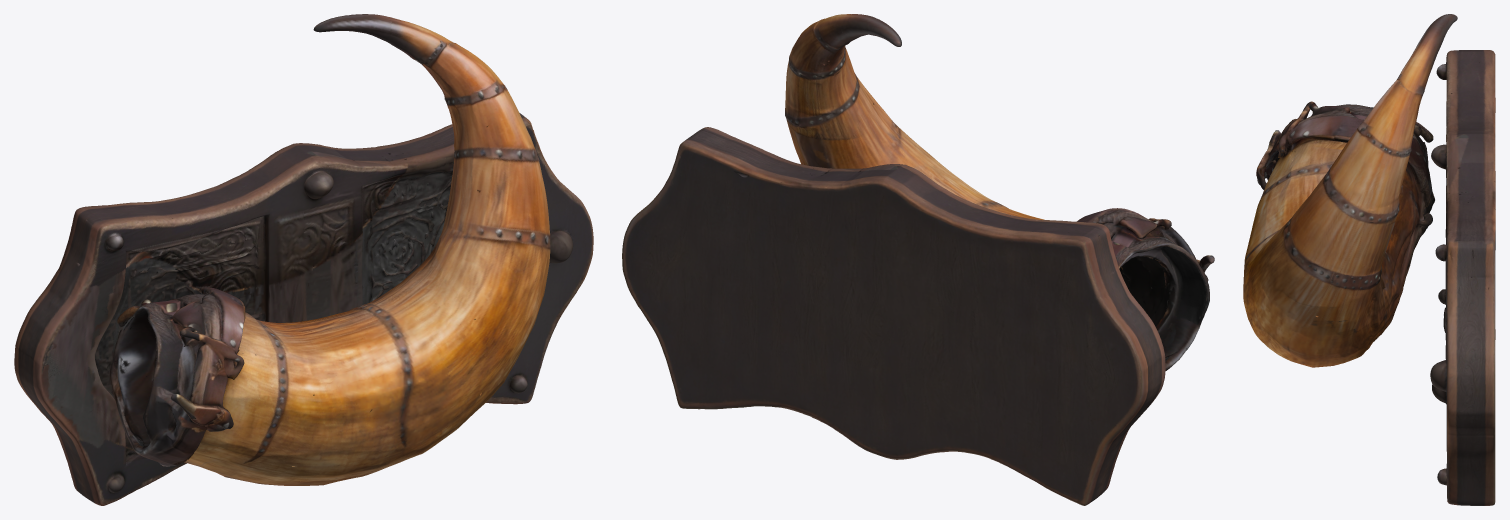
The model's file is A_Viking_style_wall_m_0721231059_texture.fbx.
The picture shows the model from 3 angles, left to right: view 1: azimuth 30°, elevation 25°; view 2: azimuth 150°, elevation 25°; view 3: azimuth 270°, elevation 25°; orthographic projection. The views are drawn at different scales.
Visible parts, largest first — view 1: Mesh_0; view 2: Mesh_0; view 3: Mesh_0.
Boxes of the visible parts, <box> form: Mesh_0: <box>14,14,593,505</box>; Mesh_0: <box>622,14,1214,505</box>; Mesh_0: <box>1243,14,1495,505</box>.
Bounding box in the file's own units: 201 × 150 × 85.17.
Materials: 1 (1 with a texture image).
